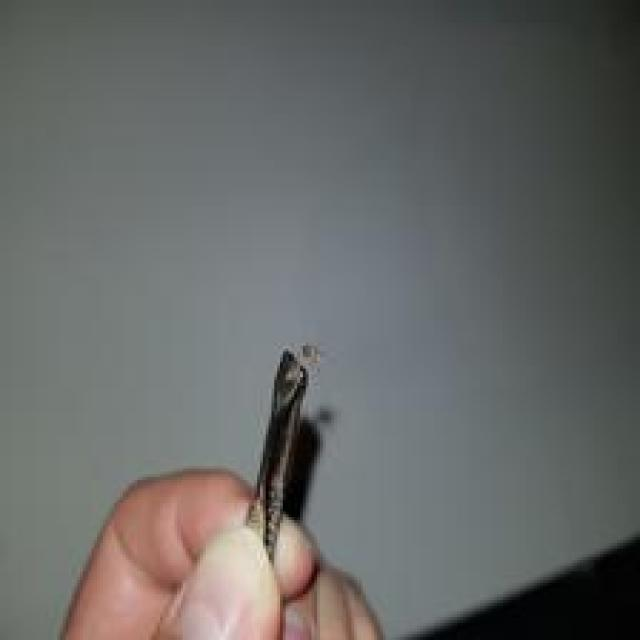Culex: (243, 340, 334, 566)
